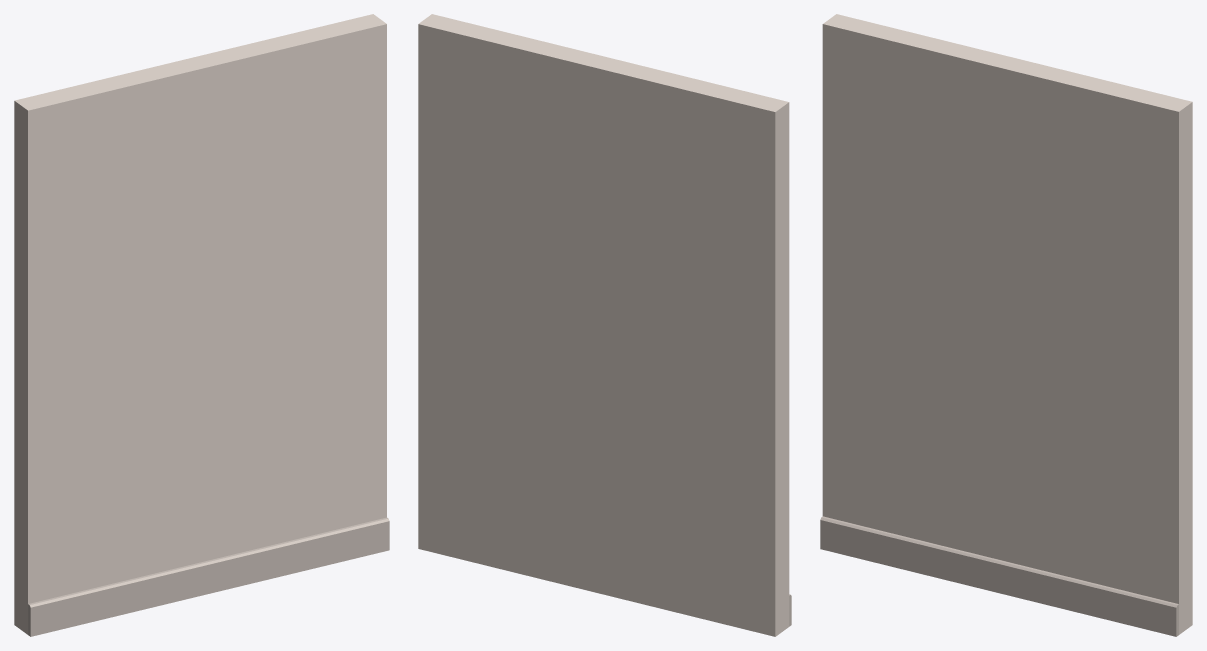
Rendered from WallSingleSkirtingLarge.fbx.
The picture shows the model from 3 angles, left to right: view 1: azimuth 30°, elevation 25°; view 2: azimuth 150°, elevation 25°; view 3: azimuth 330°, elevation 25°; orthographic projection.
Visible parts, largest first — view 1: Wall_Inner_Skirting150; view 2: Wall_Inner_Skirting150; view 3: Wall_Inner_Skirting150.
Boxes of the visible parts, x1,y1,x2,y2 form: Wall_Inner_Skirting150: (14,14,389,636); Wall_Inner_Skirting150: (418,14,791,636); Wall_Inner_Skirting150: (820,14,1192,636).
Size of the model in its own units: 180 by 252 by 15.04.
1 material, 1 textured.
